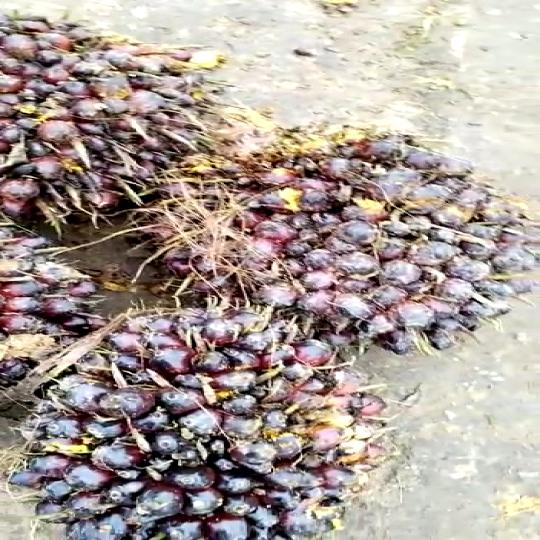kurang masak: (148, 99, 522, 360), (0, 306, 380, 539), (0, 0, 196, 210)
